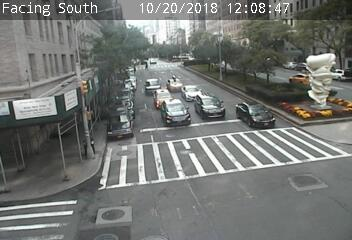car: (234, 101, 276, 127), (195, 91, 225, 119), (161, 99, 192, 125), (155, 88, 172, 108), (181, 86, 199, 100), (146, 77, 160, 92), (167, 76, 181, 90)
